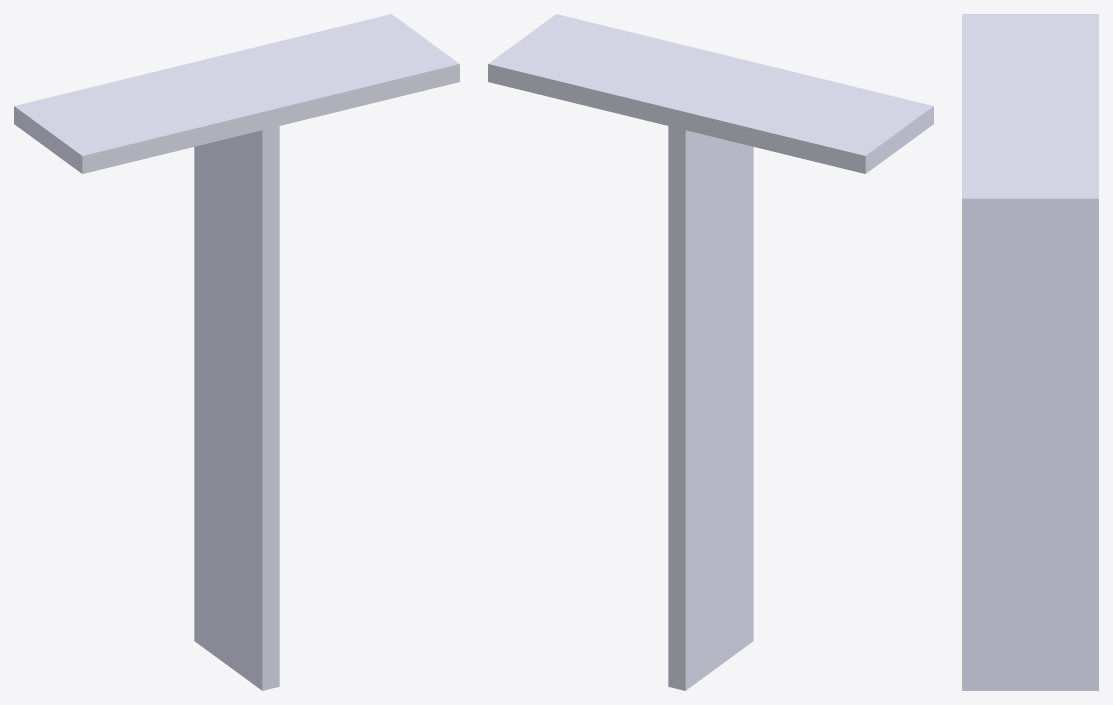
The picture shows the model from 3 angles, left to right: view 1: azimuth 30°, elevation 25°; view 2: azimuth 150°, elevation 25°; view 3: azimuth 270°, elevation 25°; orthographic projection.
Parts seen in each view (by area): view 1: t_AlphaProta_Grey; view 2: t_AlphaProta_Grey; view 3: t_AlphaProta_Grey.
Boxes of the visible parts, x1=… form: t_AlphaProta_Grey: x1=14, y1=14, x2=459, y2=690; t_AlphaProta_Grey: x1=488, y1=14, x2=933, y2=690; t_AlphaProta_Grey: x1=962, y1=14, x2=1098, y2=690.
Size of what is drawn, in the model's own units: 0.1436 by 0.2105 by 0.045.
2 materials, 2 textured.
